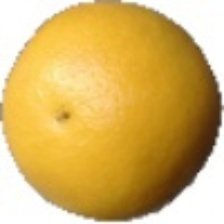grapes: (31, 40, 178, 223)
